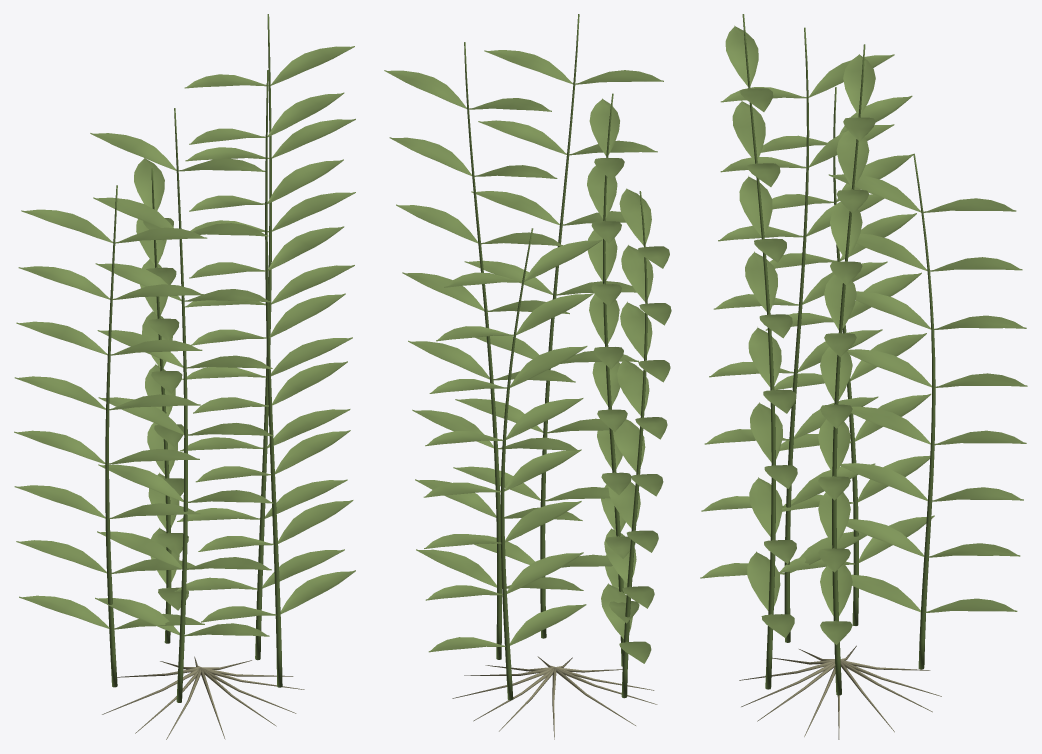
The model's file is hygro-mobile.glb.
The picture shows the model from 3 angles, left to right: view 1: azimuth 30°, elevation 25°; view 2: azimuth 150°, elevation 25°; view 3: azimuth 270°, elevation 25°; orthographic projection. The views are drawn at different scales.
Visible parts, largest first — view 1: opposite-leaf, branching-stem, anchoring-root; view 2: opposite-leaf, branching-stem, anchoring-root; view 3: opposite-leaf, branching-stem, anchoring-root.
Part boxes in pixels (bbox=[...]): opposite-leaf: bbox=[14, 46, 355, 636]; branching-stem: bbox=[105, 14, 282, 702]; anchoring-root: bbox=[102, 656, 304, 739]; opposite-leaf: bbox=[384, 50, 671, 663]; branching-stem: bbox=[464, 14, 647, 700]; anchoring-root: bbox=[452, 656, 657, 739]; opposite-leaf: bbox=[700, 25, 1027, 644]; branching-stem: bbox=[742, 14, 935, 695]; anchoring-root: bbox=[739, 645, 941, 739].
Bounding box in the file's own units: 0.4382 × 0.8837 × 0.3804.
